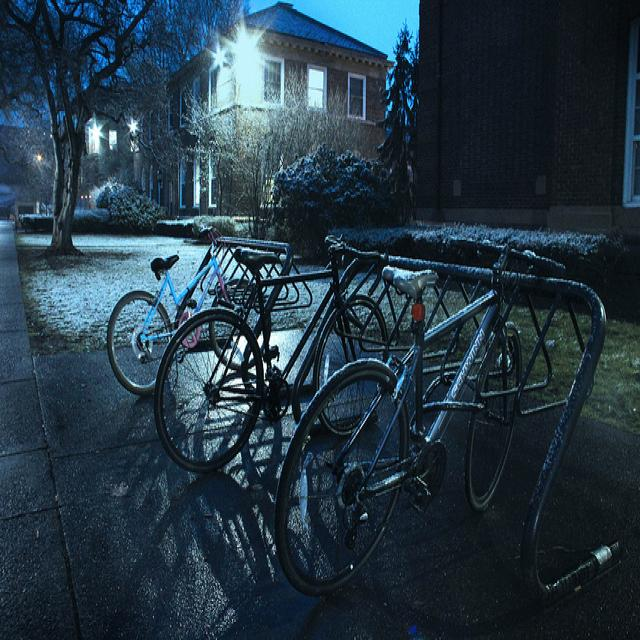Bicycle: (262, 261, 585, 611), (142, 258, 394, 517), (86, 235, 288, 397)
